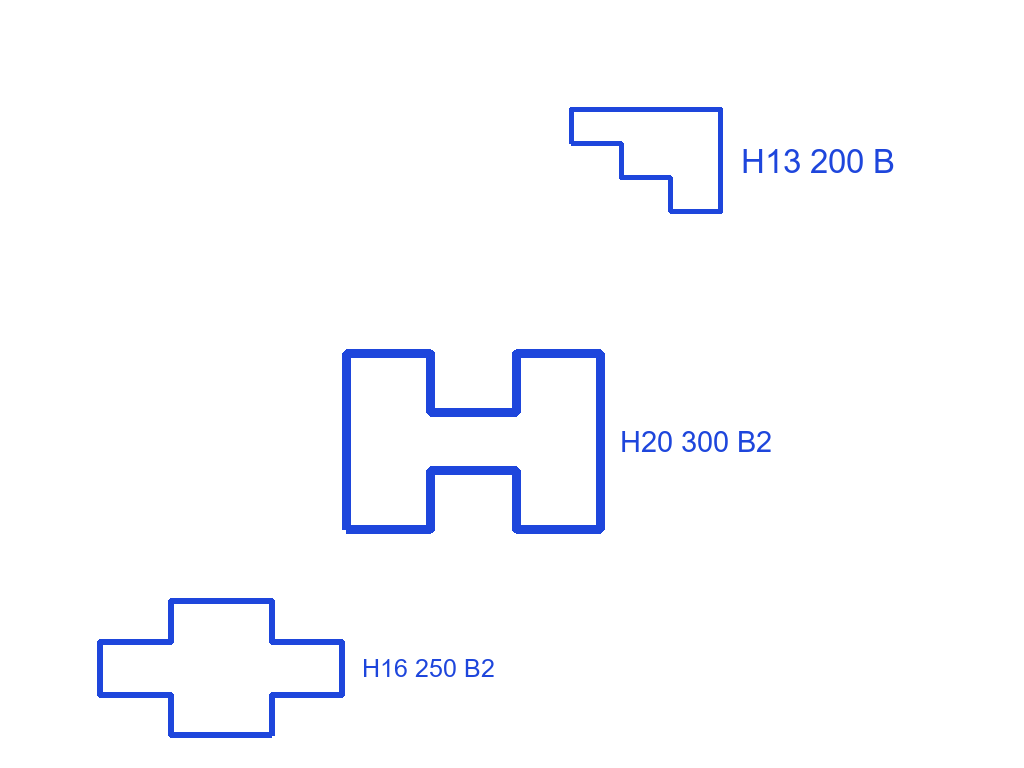shape: (340, 347, 607, 536), (96, 596, 347, 741), (567, 105, 725, 216)
text: (739, 147, 897, 175), (618, 429, 774, 454), (360, 657, 497, 679)
